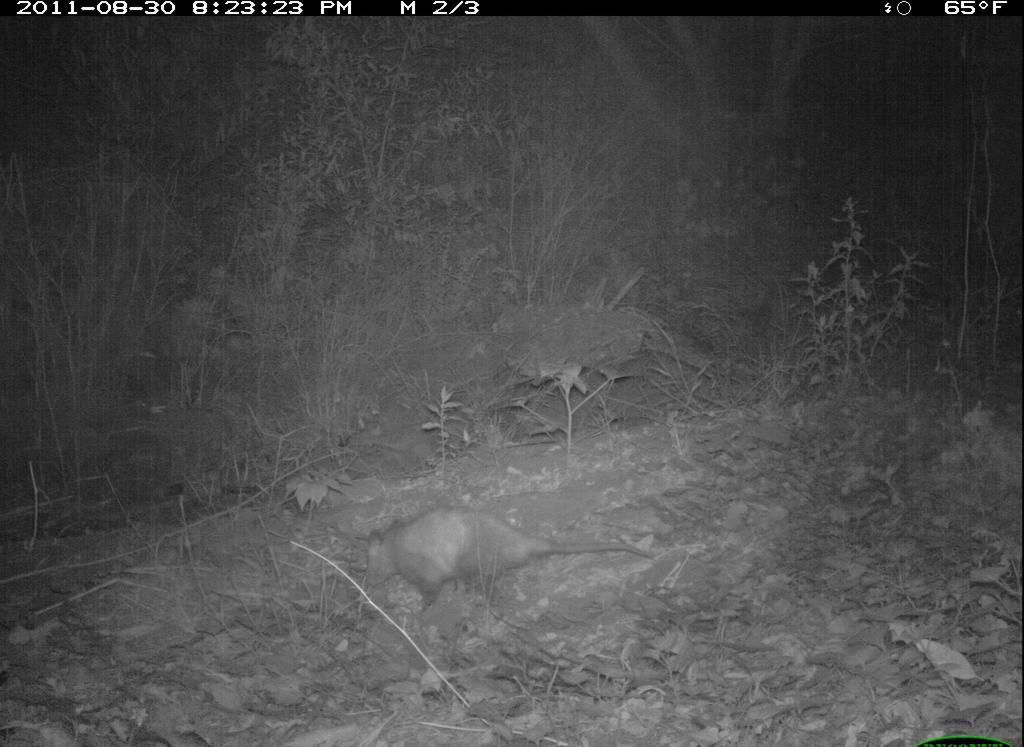opossum: (319, 497, 666, 614)
